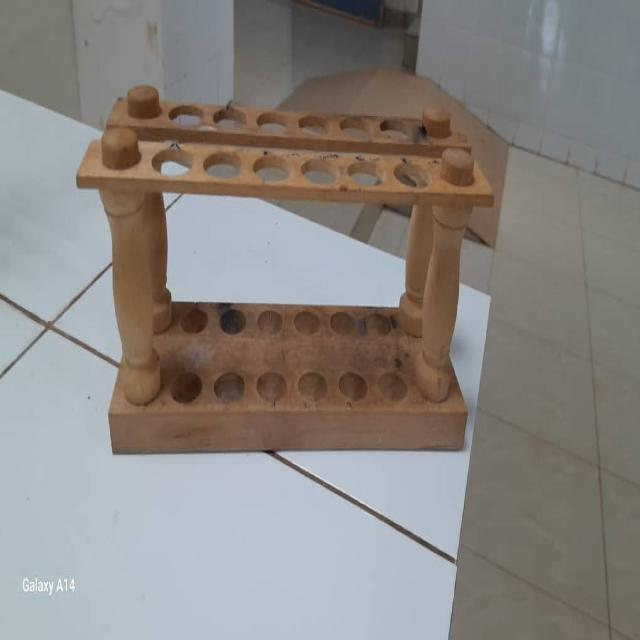Test Tube Racks: (64, 84, 497, 454)
